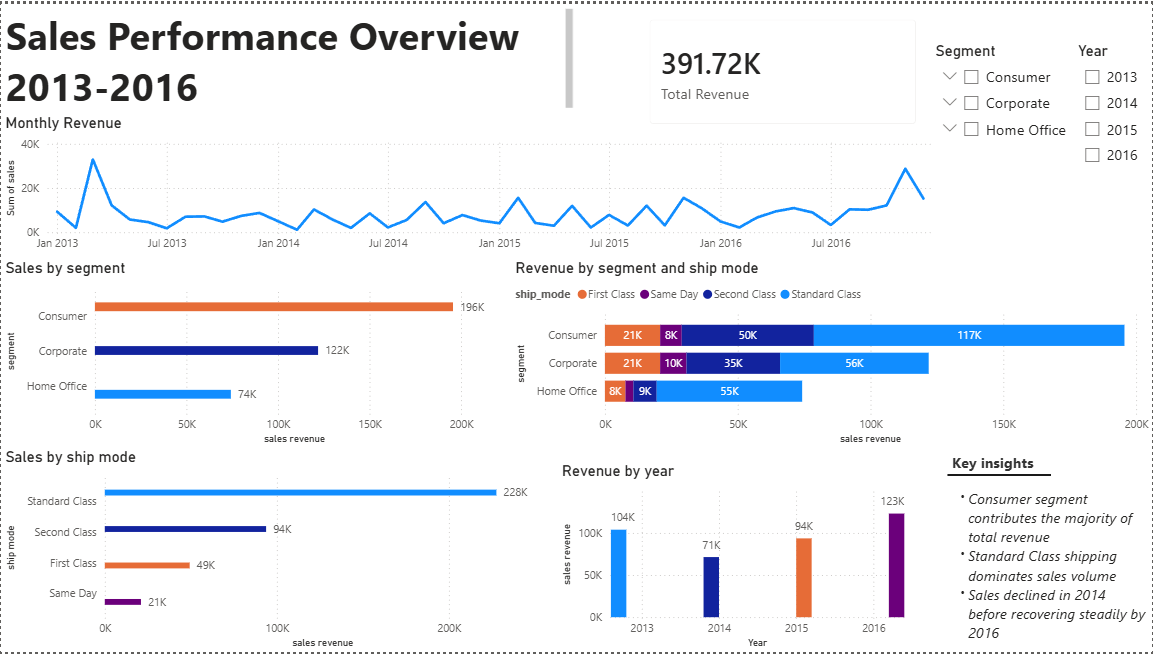

What the dashboard file says about the page in this screenshot:
{"tool":"powerbi","page":{"name":"Page 1","canvas":[1280,720],"ordinal":0},"visuals":[{"type":"clusteredBarChart","title":"Sales by segment","fields":{"Category":["cleaned_sales_data.segment"],"Y":["Sum(cleaned_sales_data.sales)"],"Series":["cleaned_sales_data.segment"]},"box":[0,283.3,566.7,210],"z":0},{"type":"clusteredBarChart","title":"Sales by ship mode","fields":{"Category":["cleaned_sales_data.ship_mode"],"Y":["Sum(cleaned_sales_data.sales)"],"Series":["cleaned_sales_data.ship_mode"]},"box":[0,493.3,618.3,226.7],"z":1000},{"type":"clusteredColumnChart","title":"Revenue by year","fields":{"Y":["Sum(cleaned_sales_data.sales)"],"Category":["cleaned_sales_data.order_date.Variation.Date Hierarchy.Year"],"Series":["cleaned_sales_data.order_date.Variation.Date Hierarchy.Year"]},"box":[618.3,508.3,390,211.7],"z":2000},{"type":"lineChart","title":"Monthly Revenue","fields":{"Category":["cleaned_sales_data.order_date.Variation.Date Hierarchy.Year","cleaned_sales_data.order_date.Variation.Date Hierarchy.Month"],"Y":["Sum(cleaned_sales_data.sales)"]},"box":[0,121.7,1051.7,161.7],"z":3000},{"type":"textbox","box":[0,0,640,121.7],"z":4000},{"type":"cardVisual","fields":{"Data":["Sum(cleaned_sales_data.sales)"]},"box":[703.3,0,330,150],"z":5000},{"type":"barChart","title":"Revenue by segment and ship mode","fields":{"Category":["cleaned_sales_data.segment"],"Series":["cleaned_sales_data.ship_mode"],"Y":["Sum(cleaned_sales_data.sales)"]},"box":[566.7,283.3,713.3,210],"z":6000},{"type":"slicer","title":"Segment","fields":{"Values":["cleaned_sales_data.segment","cleaned_sales_data.ship_mode"]},"box":[1033.3,41.7,158.3,295],"z":7000},{"type":"textbox","box":[1051.7,493.3,228.3,226.7],"z":8000},{"type":"shape","box":[1051.7,373.3,115,300],"z":9000},{"type":"slicer","title":"Year","fields":{"Values":["cleaned_sales_data.order_date.Variation.Date Hierarchy.Year"]},"box":[1191.7,41.7,85,295],"z":10001}]}

Visuals, with their boxes in screenshot pixels (x1, y1, x2, y2), scaled from the page's 1280x720 canvas onto the 1153x654 screenshot:
"Sales by segment" clusteredBarChart: [0, 257, 510, 448]
"Sales by ship mode" clusteredBarChart: [0, 448, 557, 653]
"Revenue by year" clusteredColumnChart: [557, 462, 908, 653]
"Monthly Revenue" lineChart: [0, 111, 947, 257]
textbox: [0, 0, 576, 111]
cardVisual - Sum(cleaned_sales_data.sales): [634, 0, 931, 136]
"Revenue by segment and ship mode" barChart: [510, 257, 1152, 448]
"Segment" slicer: [931, 38, 1073, 306]
textbox: [947, 448, 1152, 653]
shape: [947, 339, 1051, 612]
"Year" slicer: [1073, 38, 1150, 306]
